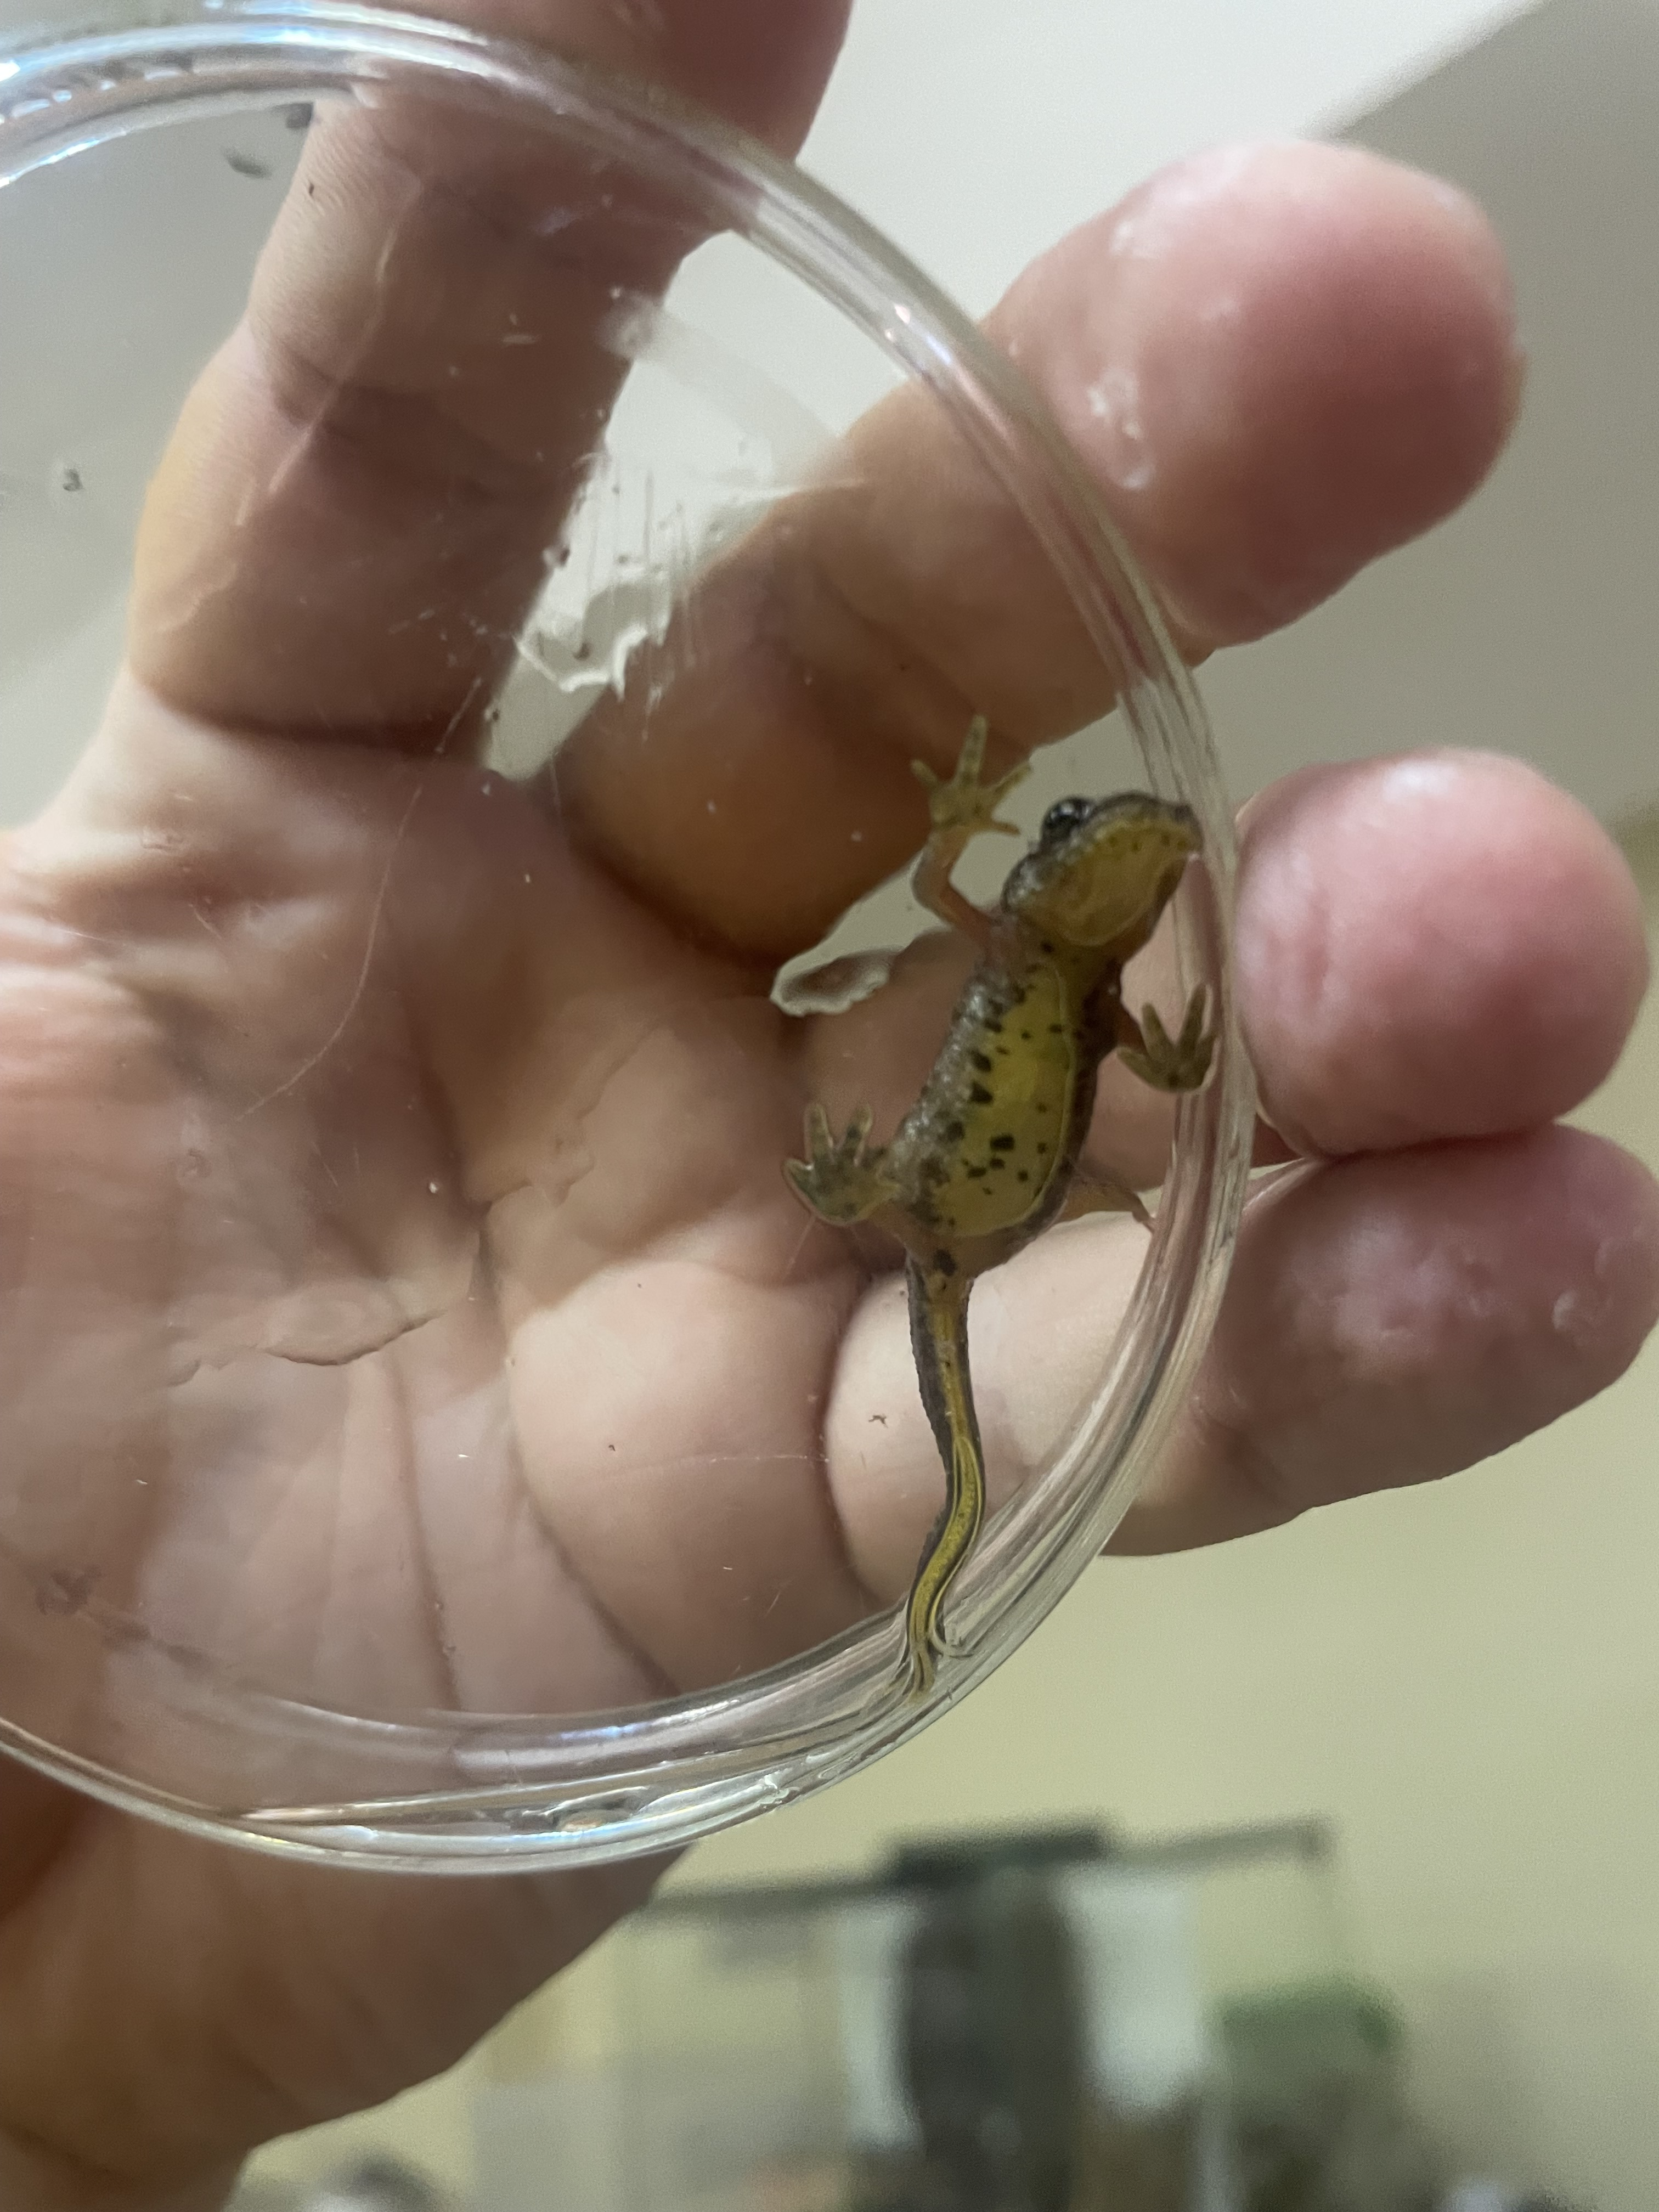Karelin_newt: (884, 951, 1112, 1181)
